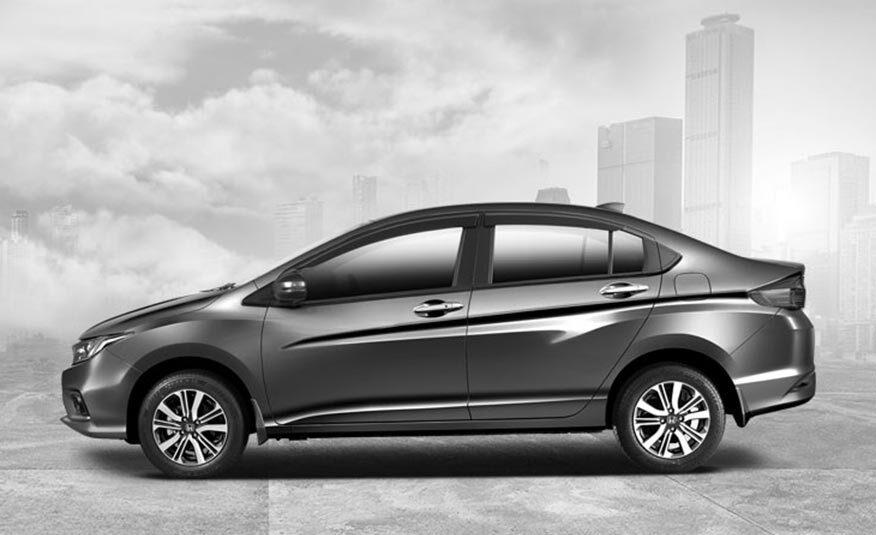Car hood: (71, 283, 223, 342)
Fender - -F-L-: (106, 277, 278, 432)
Fender - -R-L-: (599, 251, 784, 400)
Front bumper: (58, 350, 149, 448)
Headlight - -L-: (59, 326, 138, 374)
Passenger-s door - -F-L-: (262, 209, 476, 426)
Passenger-s door - -R-L-: (468, 207, 662, 425)
Rear bumper: (722, 306, 829, 426)
Rear light - -L-: (741, 260, 811, 317)
Side bumper - -L-: (243, 389, 619, 446)
Side mirror - -L-: (265, 267, 312, 313)
